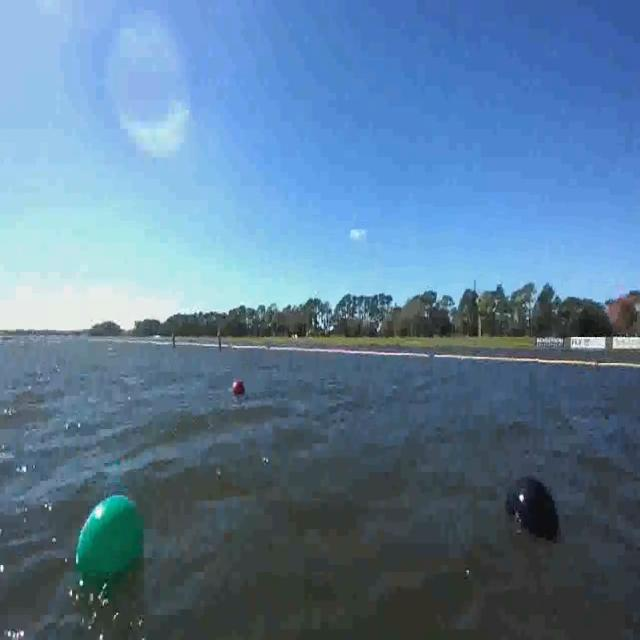black-buoy: (506, 467, 560, 545)
green-buoy: (74, 492, 148, 594)
red-buoy: (234, 380, 246, 397)
